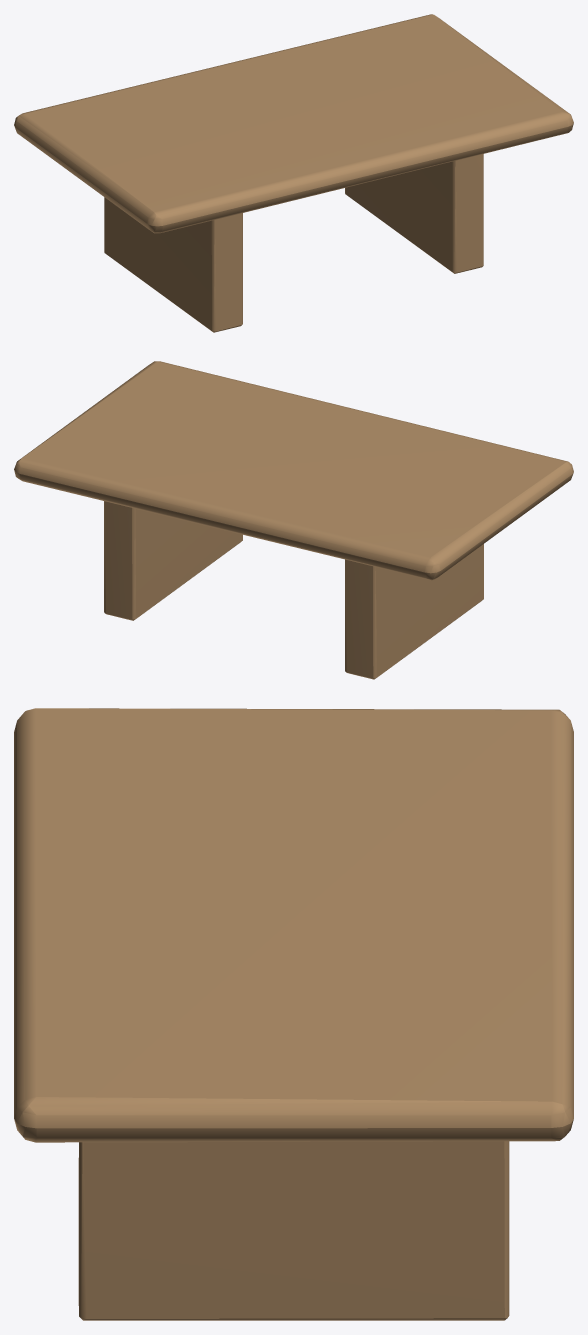
The model's file is oak-coffee-table-light.glb.
3 renders of one model, top to bottom at view 1: azimuth 30°, elevation 25°; view 2: azimuth 150°, elevation 25°; view 3: azimuth 270°, elevation 25°, orthographic. The views are drawn at different scales.
Parts seen in each view (by area): view 1: Mood oak board; view 2: Mood oak board; view 3: Mood oak board.
Boxes of the visible parts, x1,y1,x2,y2 form: Mood oak board: (14, 14, 573, 332); Mood oak board: (14, 361, 573, 679); Mood oak board: (14, 708, 573, 1320).
Size of the model in its own units: 1.2 by 0.3989 by 0.7004.
